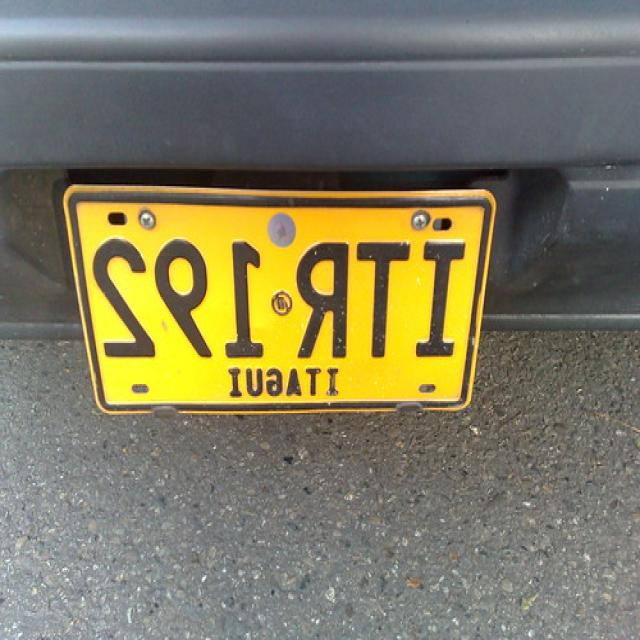placas: (83, 236, 474, 372)
